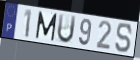1: (23, 9, 33, 39)
2: (95, 20, 113, 51)
9: (78, 18, 92, 47)
M: (35, 10, 59, 42)
S: (114, 22, 133, 54)
U: (56, 13, 77, 45)
